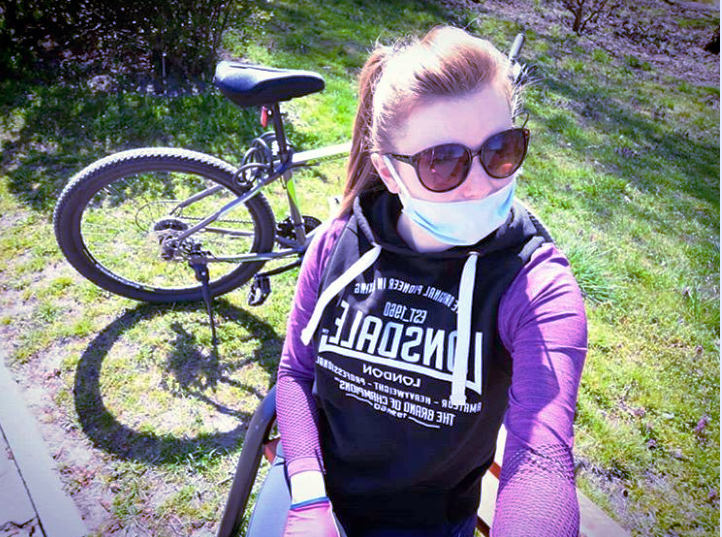mask_weared_incorrect: (362, 30, 534, 249)
